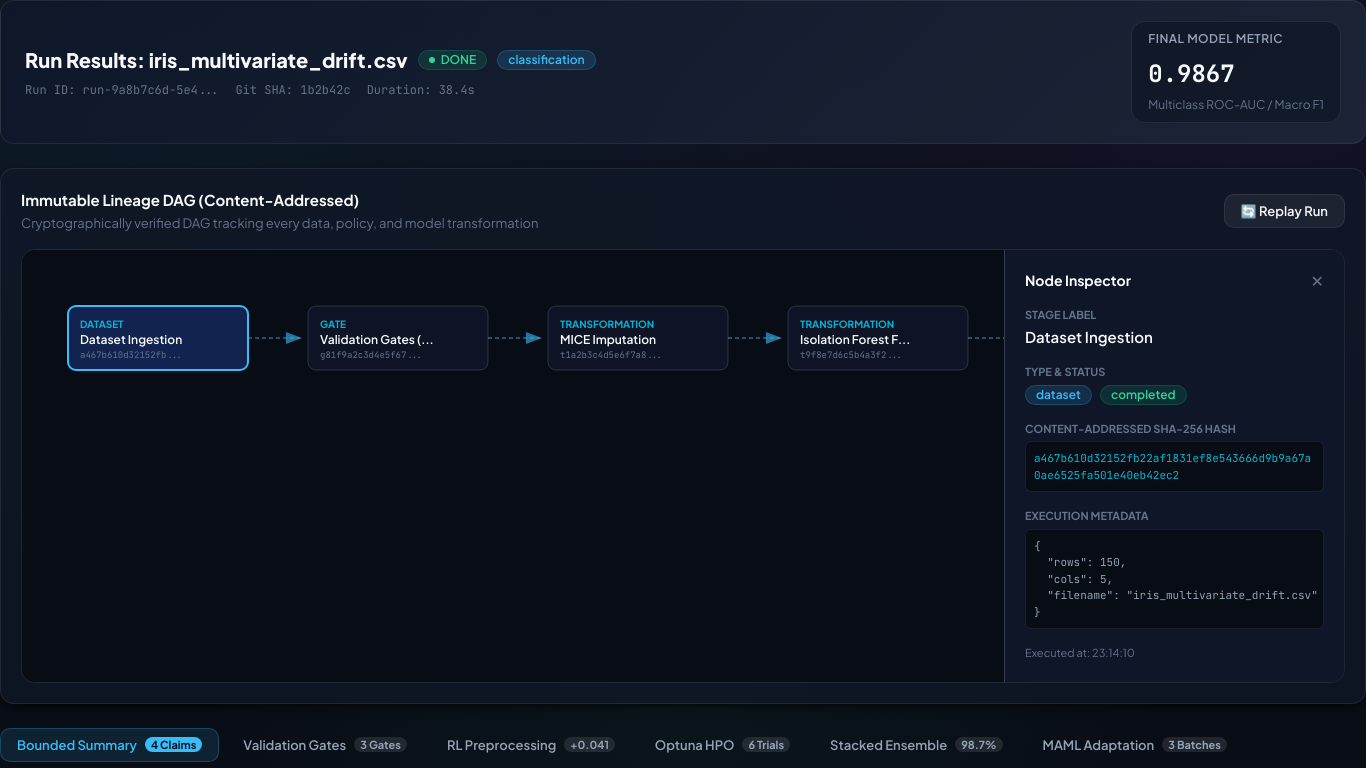
Test: ResultsDashboard › switches to RL Preprocessing tab and renders meta-features
Click the text "RL Preprocessing": click(502, 744) [447,736,556,752]
(page scrolled)
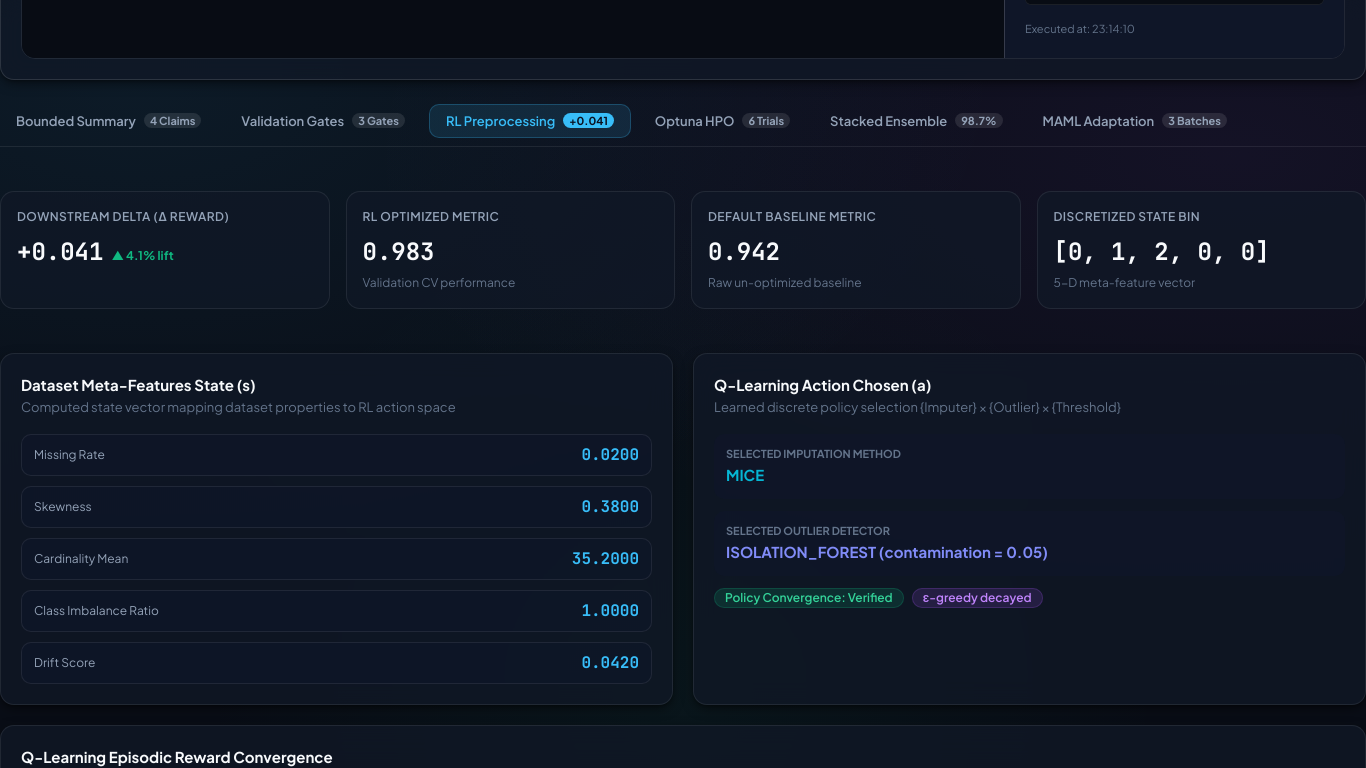
Check: the text "Dataset Meta-Features State (s)" is shown, box [21,374,256,394]
Check: the text "Q-Learning Action Chosen (a)" is shown, box [714,374,931,394]
